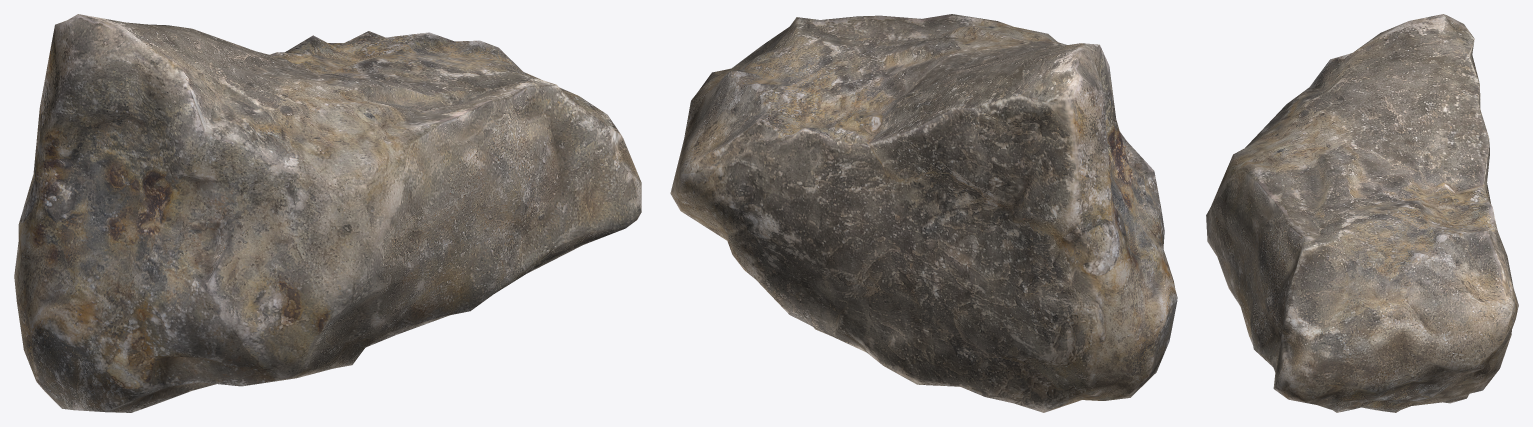
Rendered from Rock.glb.
The picture shows the model from 3 angles, left to right: view 1: azimuth 30°, elevation 25°; view 2: azimuth 150°, elevation 25°; view 3: azimuth 270°, elevation 25°; orthographic projection. The views are drawn at different scales.
Parts seen in each view (by area): view 1: Rock; view 2: Rock; view 3: Rock.
Boxes of the visible parts, x1=… form: Rock: x1=14, y1=14, x2=641, y2=412; Rock: x1=670, y1=14, x2=1177, y2=412; Rock: x1=1206, y1=14, x2=1518, y2=412.
Bounding box in the file's own units: 2.31 × 1.51 × 1.4.
Materials: 1 (1 with a texture image).
